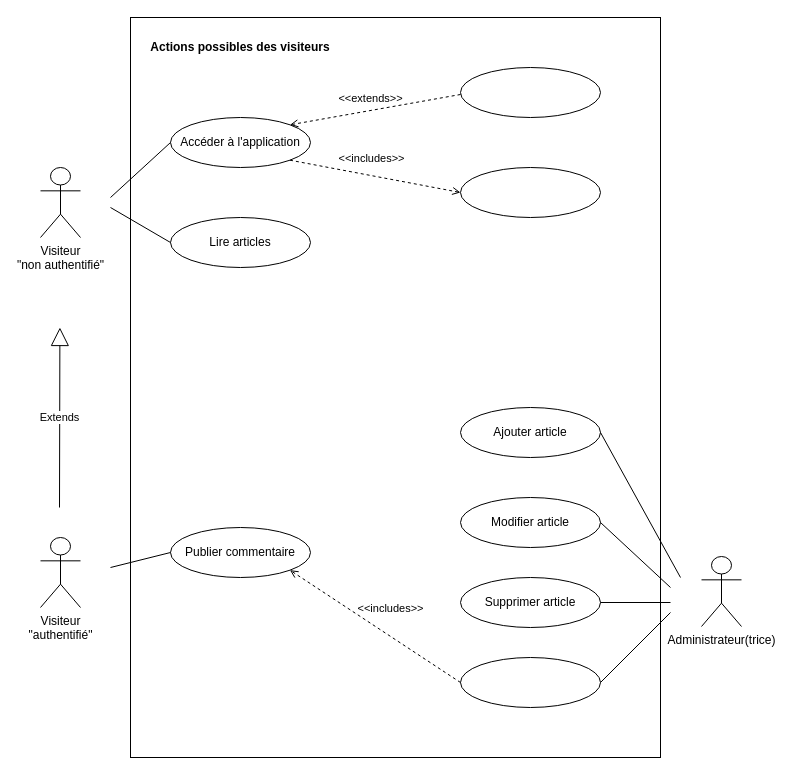
Image size: 793x775. Some labels were removed from this diagram. The centre of each missing label's shape, as x and y in pixels:
Connexion: (530,192)
Inscription: (530,92)
Valider commentaire avant publication: (530,682)
